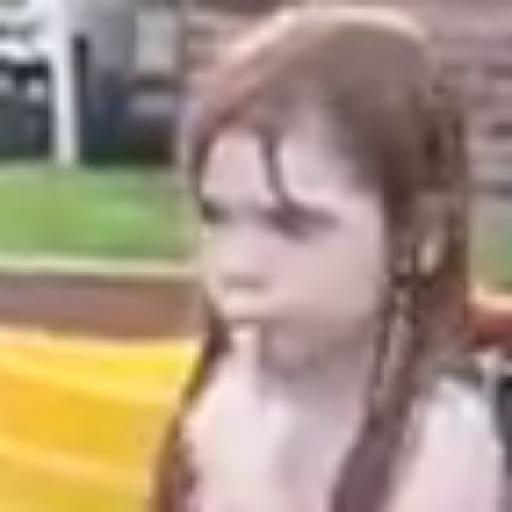Autism: (173, 49, 499, 395)
